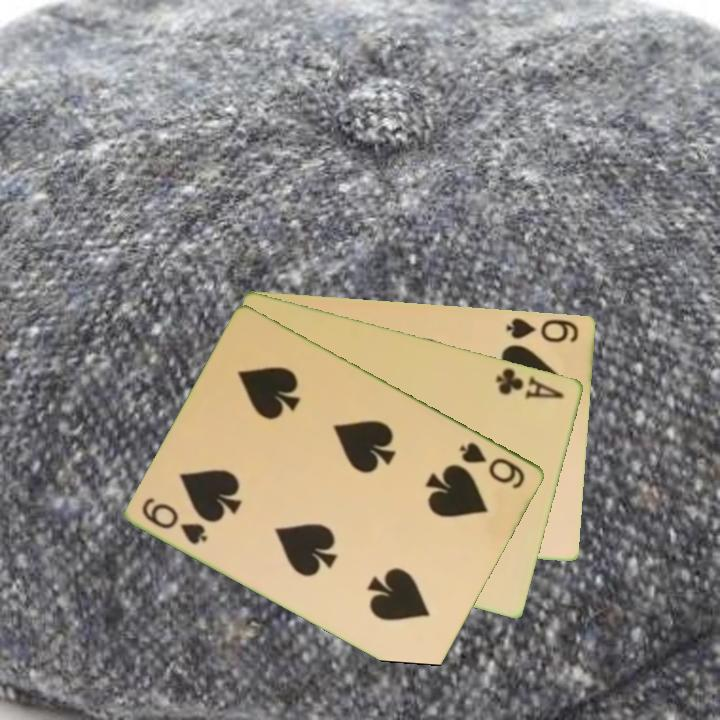6s: (456, 438, 529, 492), (139, 493, 212, 547), (503, 314, 582, 345)
Ac: (492, 364, 568, 403)
